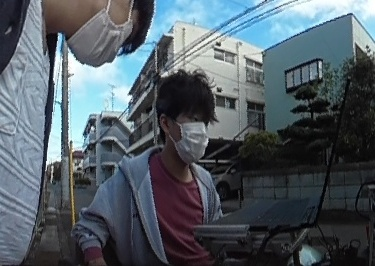person: (73, 67, 230, 261)
